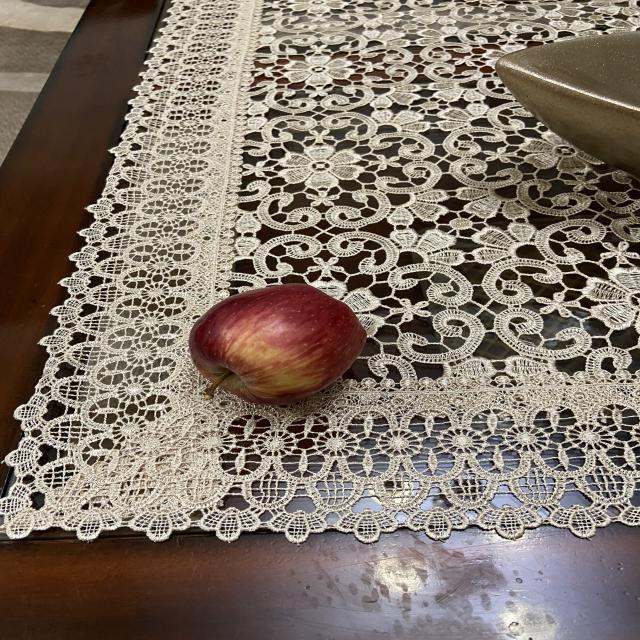apple: (181, 276, 366, 413)
